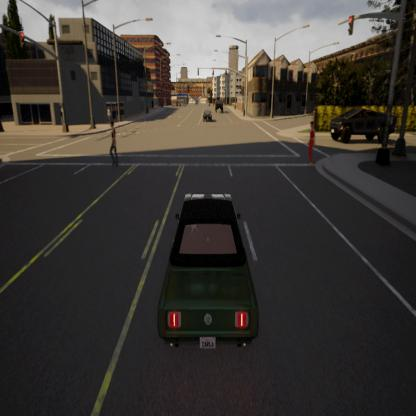Cars: (160, 187, 264, 354), (324, 106, 400, 144), (203, 108, 214, 124), (216, 93, 223, 112)
Pedestrian: (103, 117, 126, 171), (302, 122, 316, 169)
